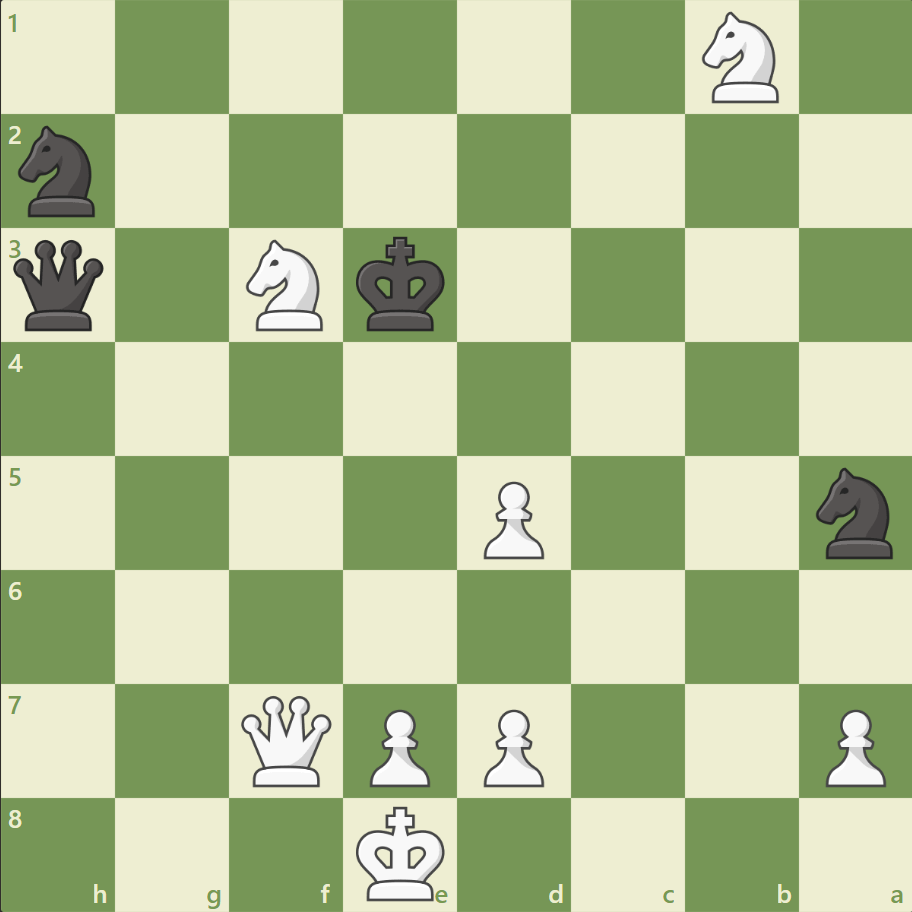K: (351, 798, 451, 906)
N: (238, 234, 335, 337), (692, 7, 789, 110)
P: (474, 700, 549, 791), (474, 473, 549, 564), (815, 700, 889, 791), (361, 700, 435, 791)
Q: (237, 690, 336, 789)
k: (351, 231, 451, 339)
n: (806, 461, 903, 564), (11, 121, 108, 223)
q: (10, 236, 109, 335)
